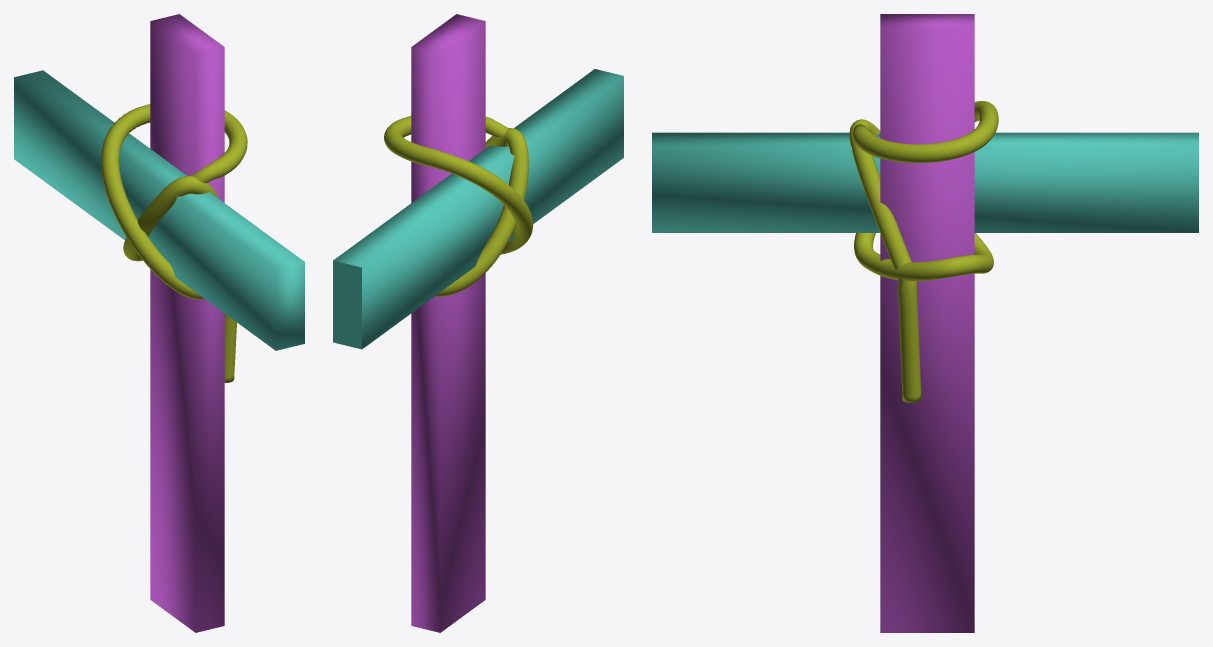
Rendered from cross_uvready.fbx.
The picture shows the model from 3 angles, left to right: view 1: azimuth 30°, elevation 25°; view 2: azimuth 150°, elevation 25°; view 3: azimuth 270°, elevation 25°; orthographic projection. The views are drawn at different scales.
Parts seen in each view (by area): view 1: Cross_infidel:Box001, Cross_infidel:Box002, Cross_infidel:Cylinder007; view 2: Cross_infidel:Box001, Cross_infidel:Box002, Cross_infidel:Cylinder007; view 3: Cross_infidel:Box001, Cross_infidel:Box002, Cross_infidel:Cylinder007.
Boxes of the visible parts, x1,y1,x2,y2 form: Cross_infidel:Box001: [150, 14, 224, 632]; Cross_infidel:Box002: [14, 70, 304, 350]; Cross_infidel:Cylinder007: [101, 104, 247, 382]; Cross_infidel:Box001: [411, 14, 485, 632]; Cross_infidel:Box002: [333, 69, 623, 349]; Cross_infidel:Cylinder007: [384, 116, 533, 296]; Cross_infidel:Box001: [880, 14, 974, 632]; Cross_infidel:Box002: [652, 132, 1198, 232]; Cross_infidel:Cylinder007: [849, 101, 998, 402].
Bounding box in the file's own units: 46.1 × 190 × 156.
